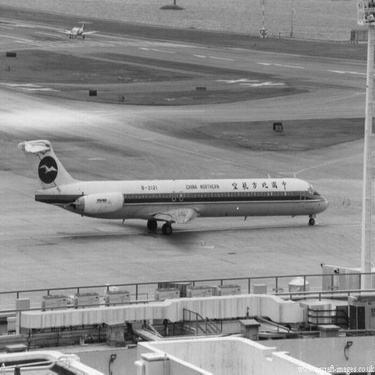airplane: (12, 125, 339, 238), (39, 15, 100, 43)
